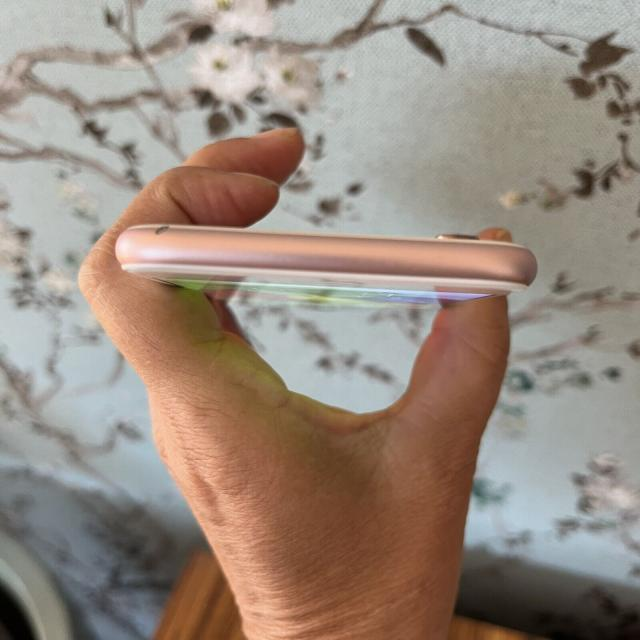Dents: (145, 223, 185, 243)
